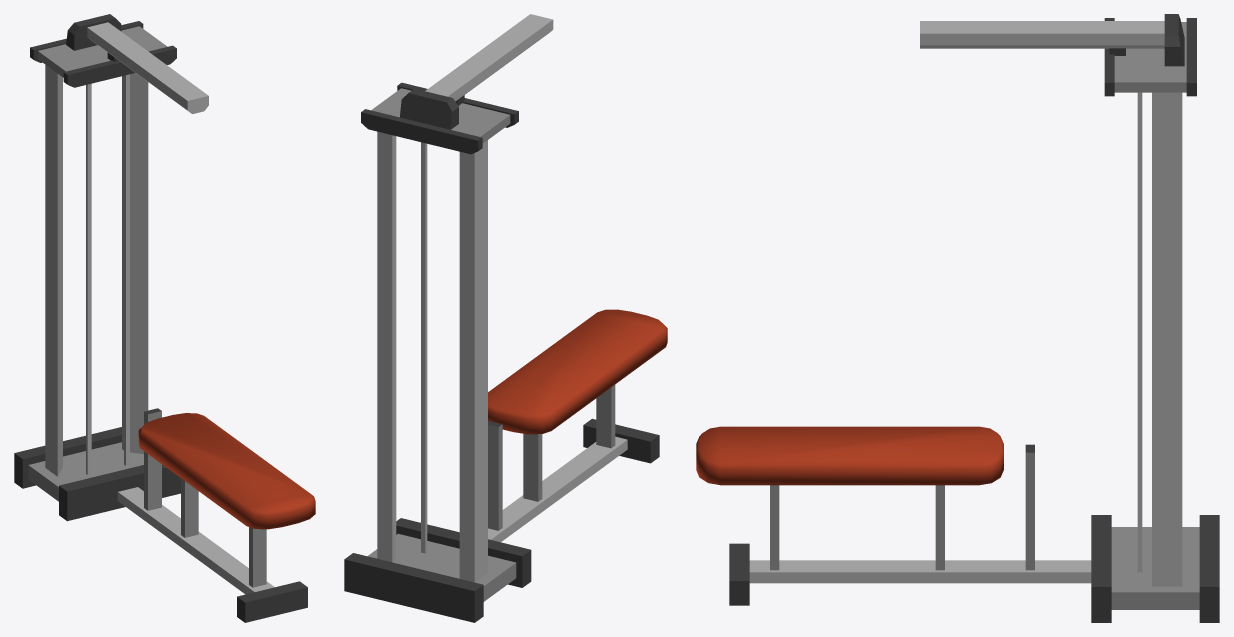
File: E_Machine_1.fbx
The picture shows the model from 3 angles, left to right: view 1: azimuth 30°, elevation 25°; view 2: azimuth 150°, elevation 25°; view 3: azimuth 270°, elevation 25°; orthographic projection. The views are drawn at different scales.
Visible parts, largest first — view 1: E_Machine_1; view 2: E_Machine_1; view 3: E_Machine_1.
Part boxes in pixels (left/top/right/bottom): E_Machine_1: left=14, top=14, right=315, bottom=622; E_Machine_1: left=344, top=14, right=667, bottom=622; E_Machine_1: left=696, top=14, right=1219, bottom=622.
Bounding box in the file's own units: 59.4 × 216 × 182.
